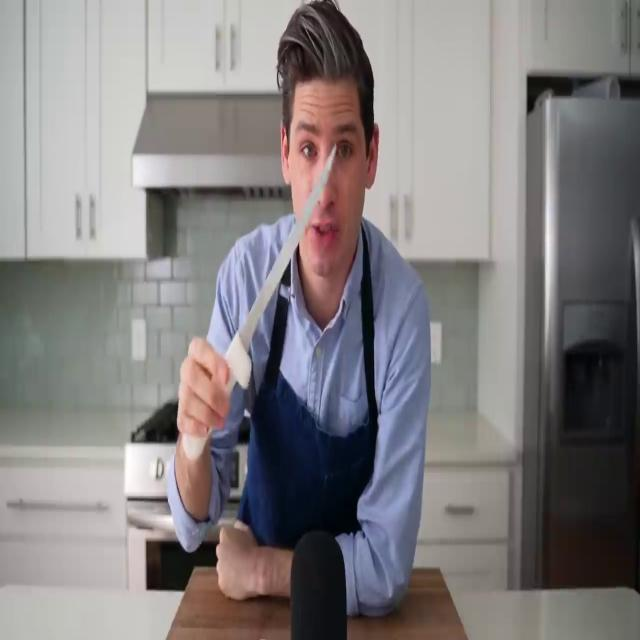Knife: (176, 140, 346, 438)
